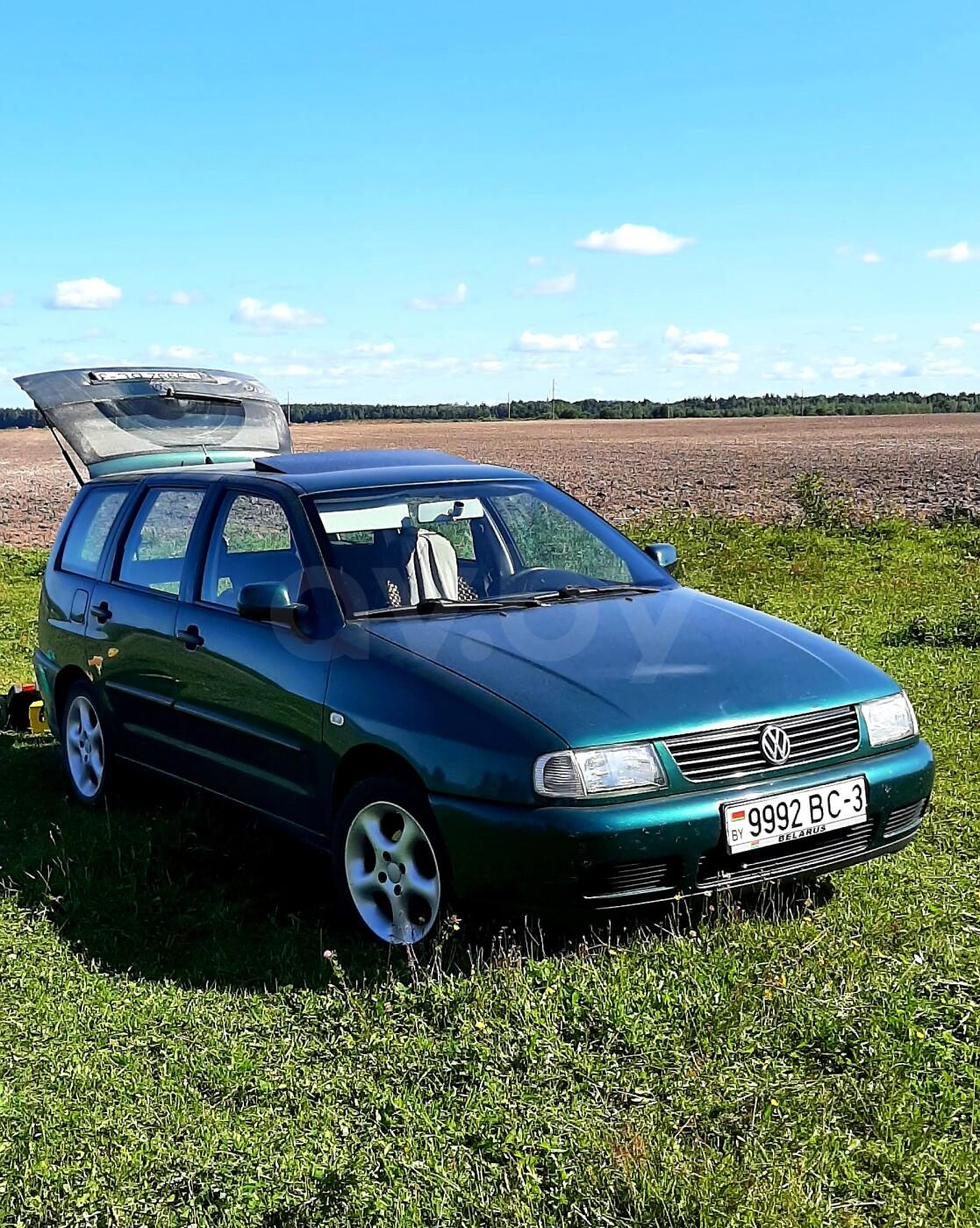Polo_1994-2002: (6, 409, 934, 980)
